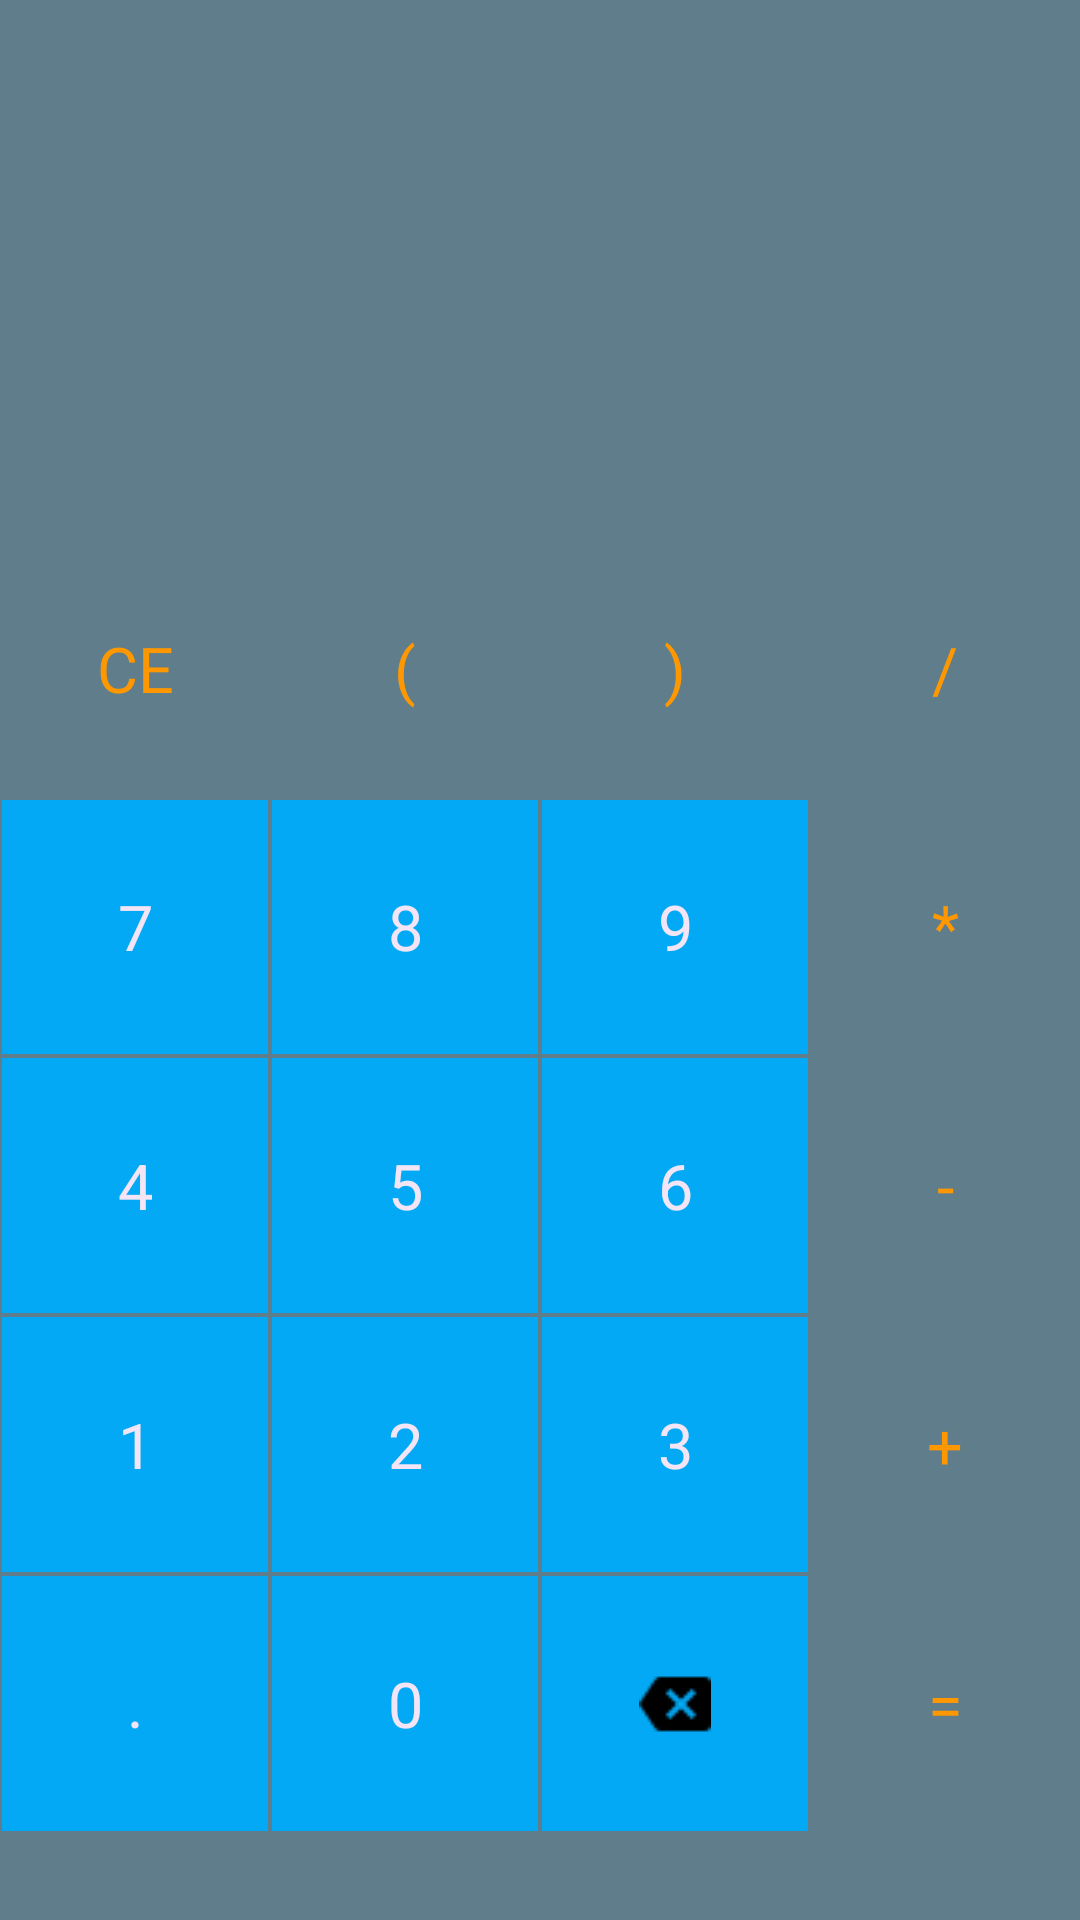

Screen size 1080w x 1920h. Icon name, then its center in pixels as (x,y):
backspace: (675,1703)
